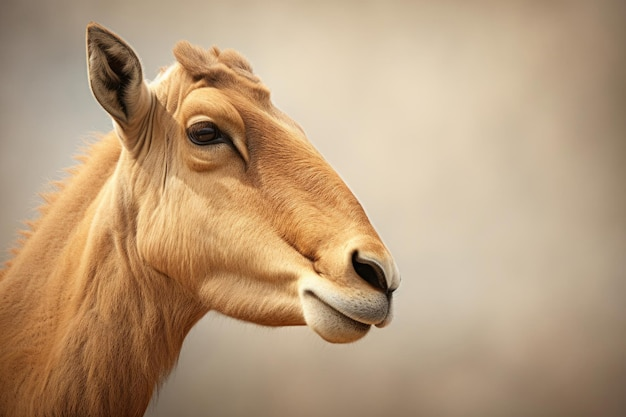saiga: (12, 17, 403, 411)
